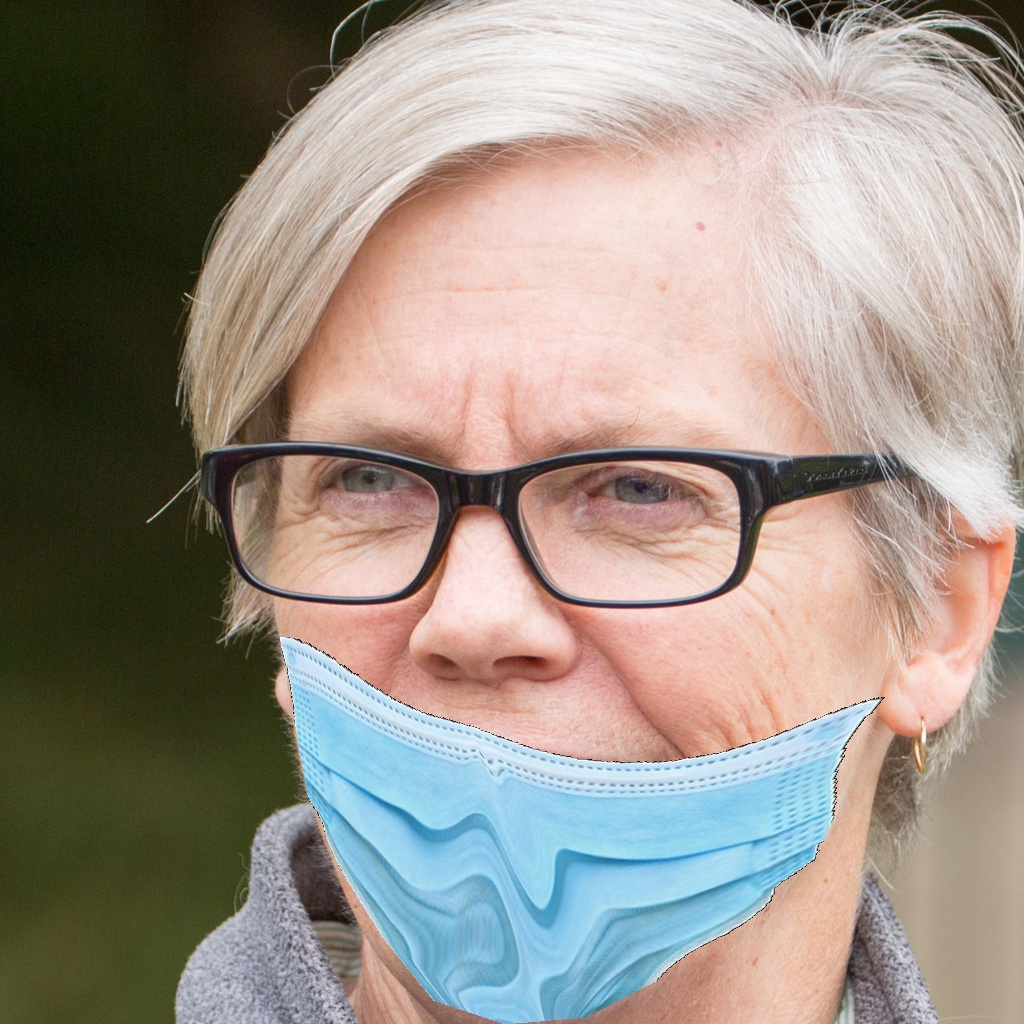mascarilla_mal_puesta: (209, 365, 964, 1018)
